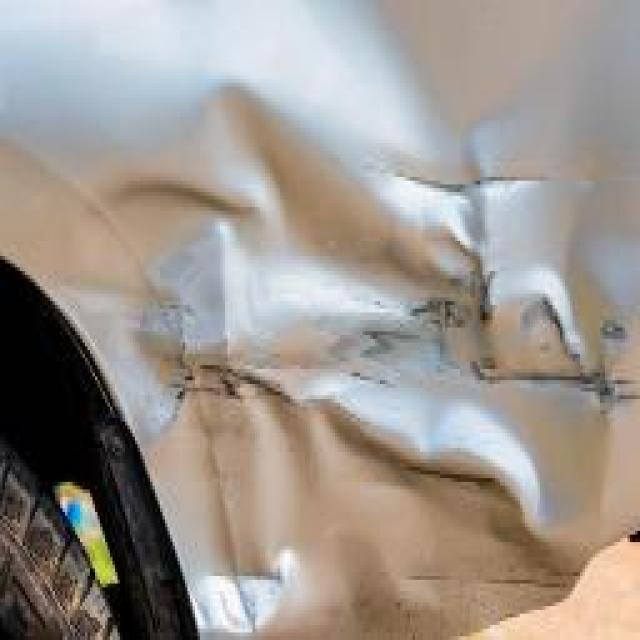Bumper: (85, 41, 640, 617)
